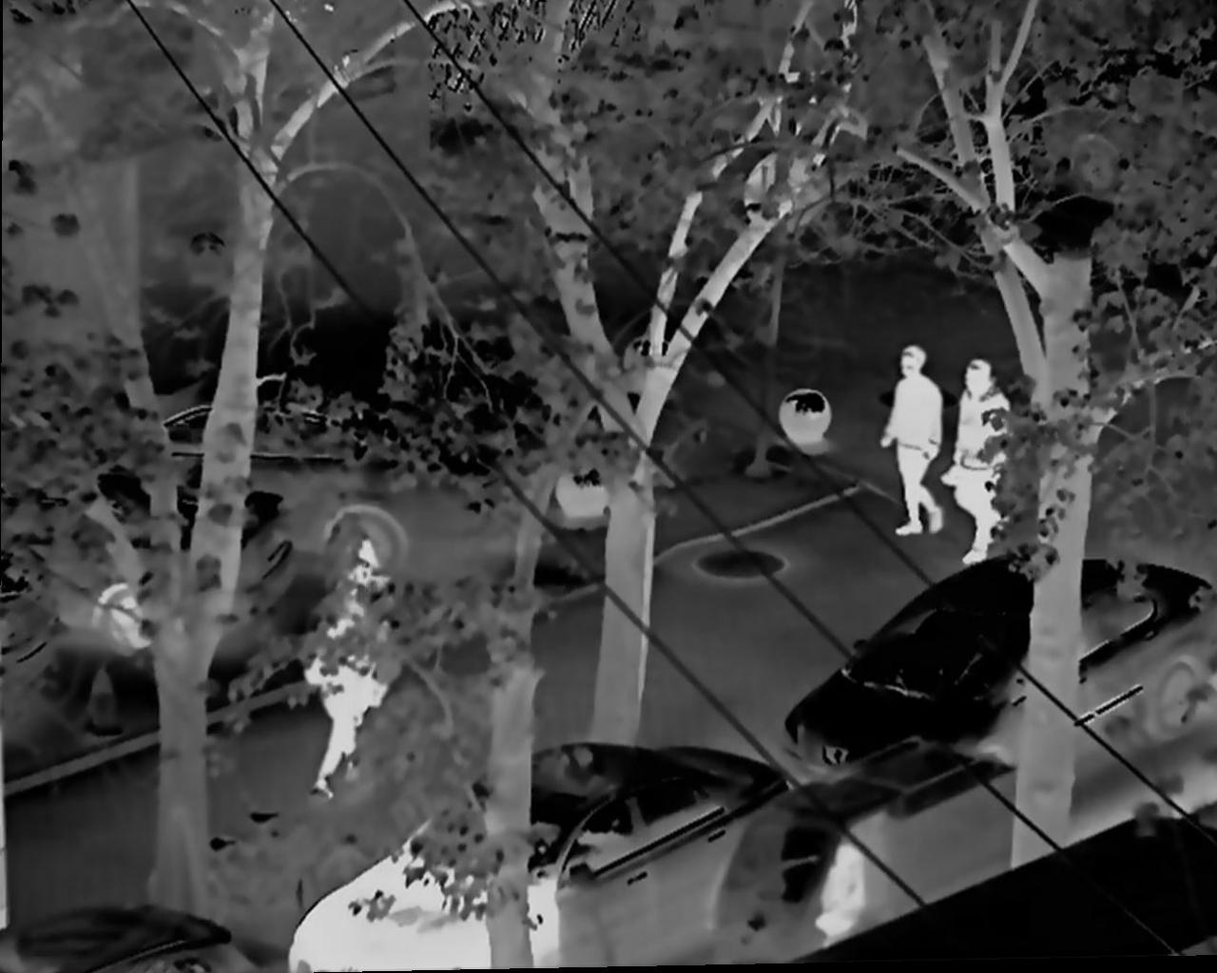person: (315, 552, 392, 806), (940, 358, 1010, 563), (881, 347, 950, 548)
